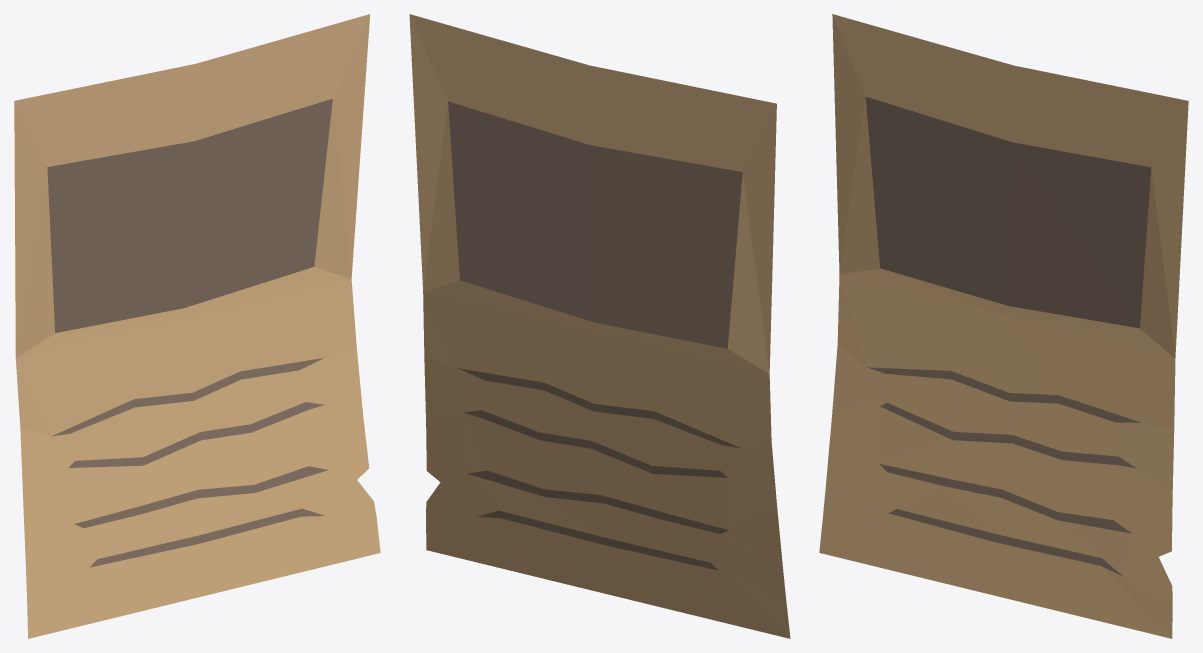
File: SFHW_Paper_022.fbx
3 views of the same model, side by side, from view 1: azimuth 30°, elevation 25°; view 2: azimuth 150°, elevation 25°; view 3: azimuth 330°, elevation 25° (orthographic). The views are drawn at different scales.
Parts seen in each view (by area): view 1: SFHW_Paper_022; view 2: SFHW_Paper_022; view 3: SFHW_Paper_022.
Part boxes in pixels (x1,y1,x2,y2): SFHW_Paper_022: (14,14,380,638); SFHW_Paper_022: (409,14,790,638); SFHW_Paper_022: (819,14,1188,638).
Size of the model in its own units: 19.26 by 27.32 by 1.59.
